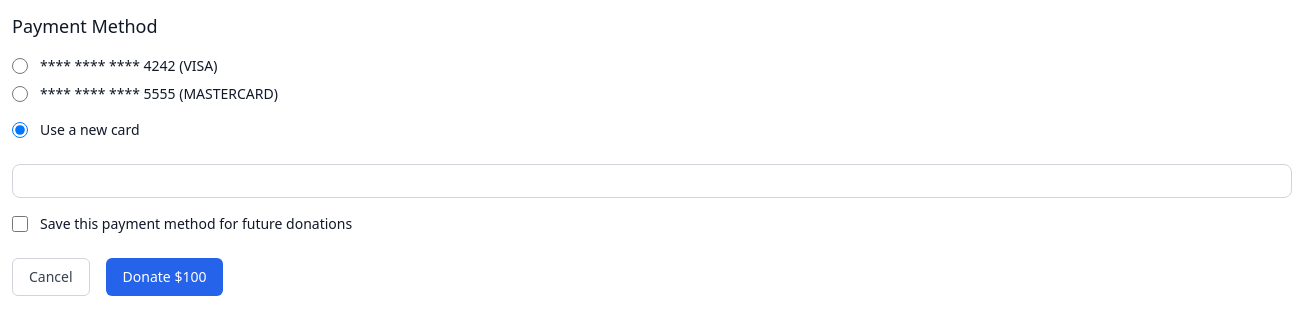
Test: PaymentForm › Payment Method Selection › should allow selecting saved payment method
The image size is (1292, 313).
Click the radio button showing "pm_123" at (20, 66), box top-left (12, 58), bottom-right (28, 74)
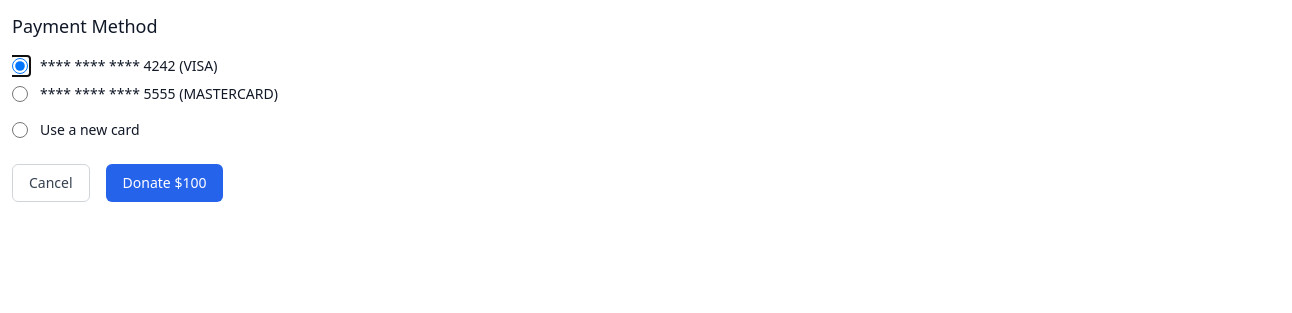
Now the radio button showing "pm_123" is checked, box top-left (12, 58), bottom-right (28, 74)
Now the radio button showing "new" is not checked, box top-left (12, 122), bottom-right (28, 138)
